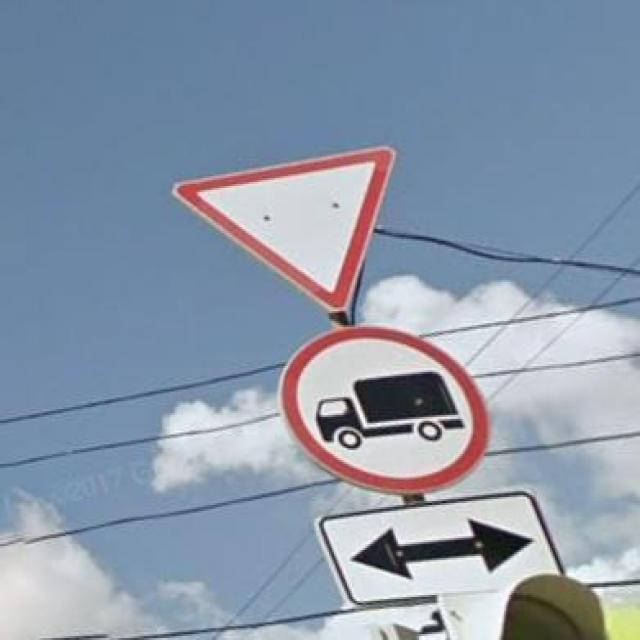traffic_sign: (174, 147, 396, 311), (278, 325, 488, 491)
